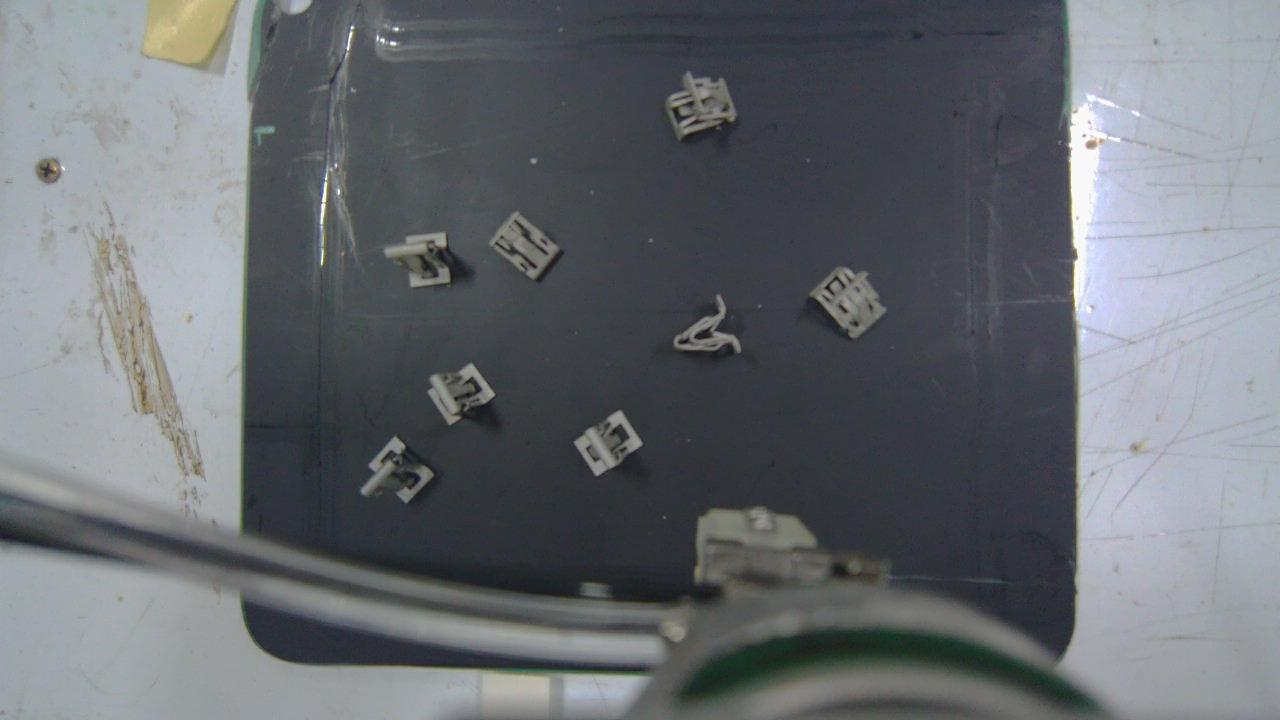ng: (811, 268, 889, 339), (488, 212, 563, 281), (665, 72, 736, 141), (426, 362, 496, 424), (675, 293, 741, 355), (385, 233, 452, 288)
pass: (360, 439, 435, 505), (574, 412, 642, 478)
